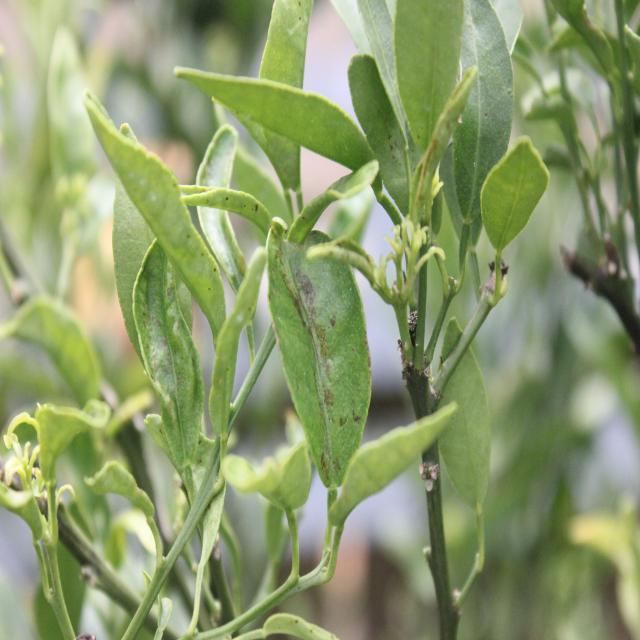canker: (274, 238, 361, 479), (141, 277, 179, 405), (175, 215, 225, 301), (373, 104, 412, 180), (214, 185, 268, 222)
